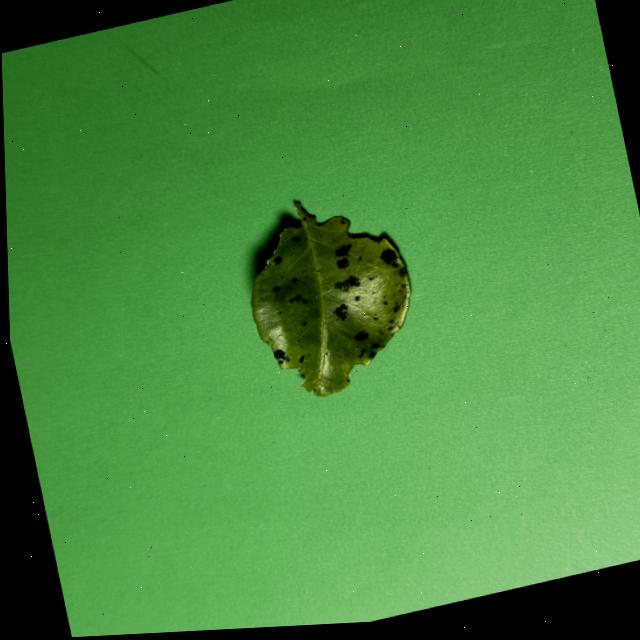sooty_mold: (250, 202, 409, 395)
